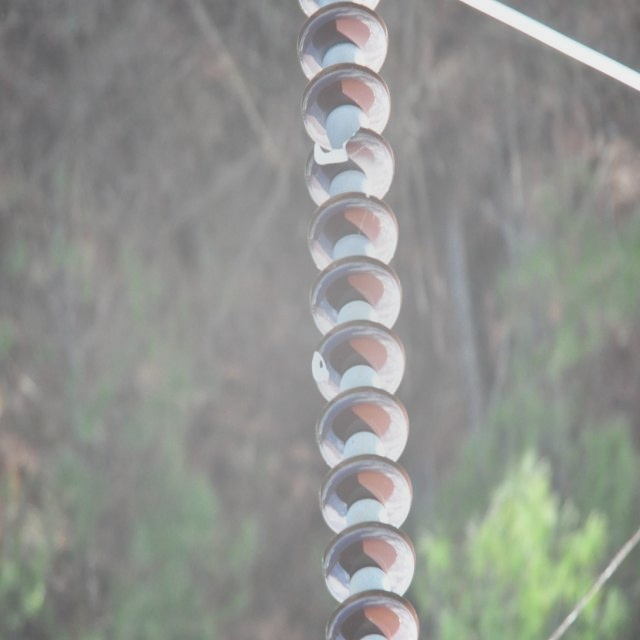broken: (313, 124, 363, 168), (310, 348, 329, 383)
insulator: (292, 0, 421, 635)
